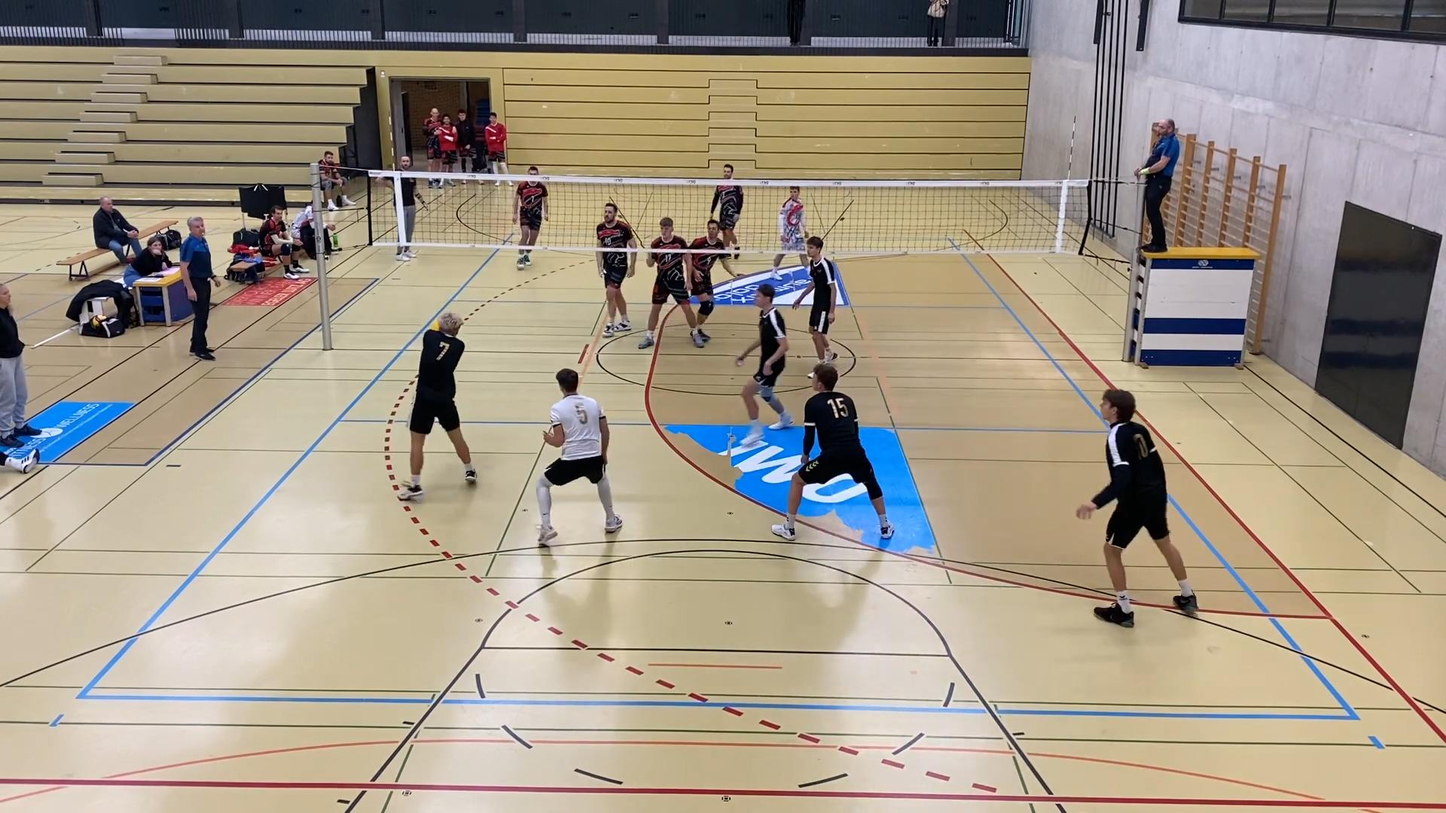ricezione: (395, 303, 479, 506)
